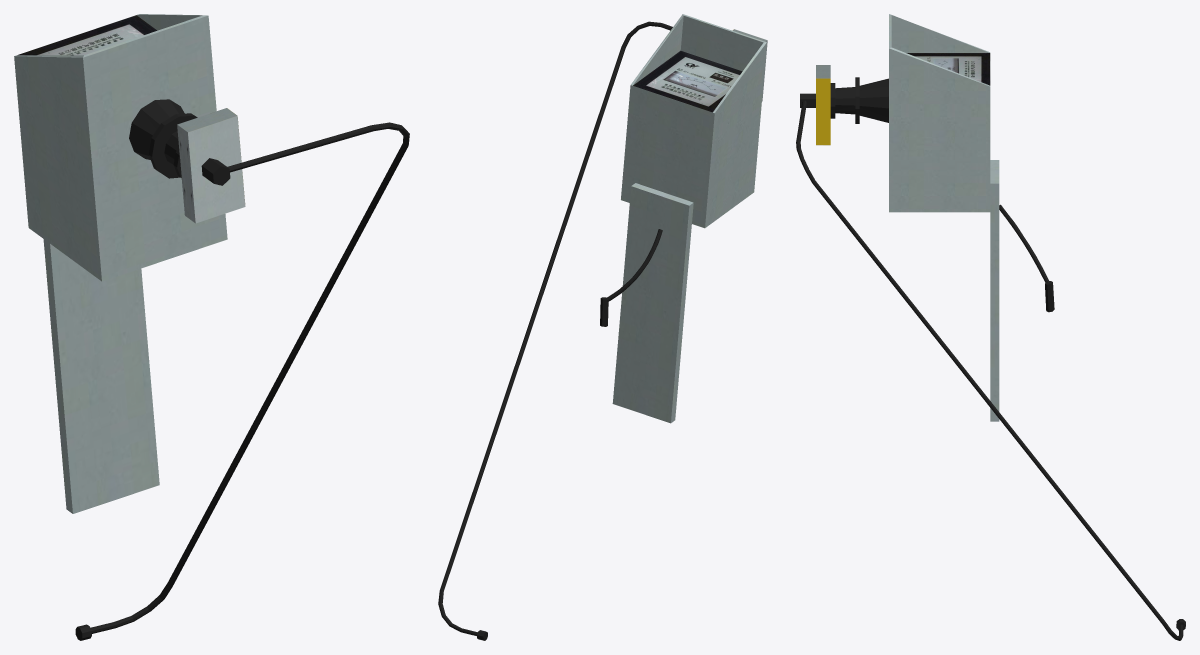
Rendered from blq-017-geode.glb.
3 renders of one model, left to right at view 1: azimuth 30°, elevation 25°; view 2: azimuth 150°, elevation 25°; view 3: azimuth 270°, elevation 25°, orthographic. The views are drawn at different scales.
Visible parts, largest first — view 1: Node; view 2: Node; view 3: Node.
Part boxes in pixels (x1,y1,x2,y2): Node: (14, 14, 409, 640); Node: (438, 14, 767, 640); Node: (796, 14, 1185, 640).
Size of the model in its own units: 0.2553 by 0.6753 by 0.4326.
Materials: 3 (3 with a texture image).
